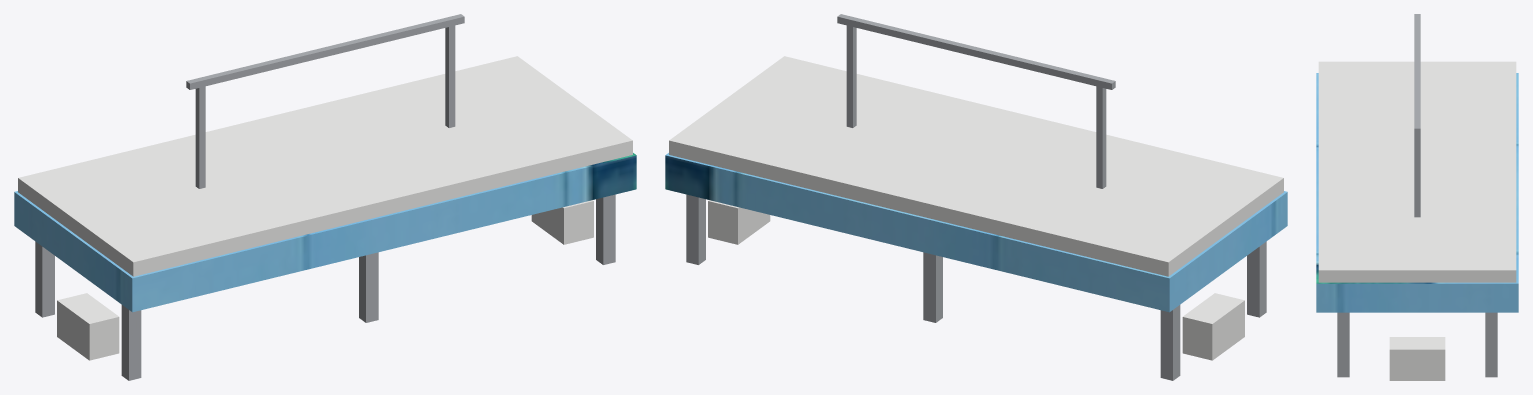
Rendered from toll_plaza.glb.
3 renders of one model, left to right at view 1: azimuth 30°, elevation 25°; view 2: azimuth 150°, elevation 25°; view 3: azimuth 270°, elevation 25°, orthographic. The views are drawn at different scales.
Visible parts, largest first — view 1: roof, fascia, booth-19, gbar, booth19, col_-19_-6, col_-19_6, col_0_-6, col_19_-6, gpost10, gpost-10; view 2: roof, fascia, booth-19, gbar, booth19, col_-19_6, col_-19_-6, col_0_6, col_19_6, gpost10, gpost-10; view 3: roof, fascia, booth19, col_19_-6, col_19_6, gbar, gpost10.
Part boxes in pixels (box(x1,y1,x2,y2)): roof: box(18, 56, 632, 276); fascia: box(14, 153, 636, 312); booth-19: box(57, 293, 119, 360); gbar: box(186, 14, 464, 89); booth19: box(531, 200, 593, 244); col_-19_-6: box(121, 305, 141, 380); col_-19_6: box(35, 241, 54, 317); col_0_-6: box(359, 252, 378, 322); col_19_-6: box(596, 194, 615, 264); gpost10: box(445, 22, 455, 127); gpost-10: box(195, 83, 205, 188); roof: box(669, 56, 1283, 276); fascia: box(665, 153, 1287, 312); booth-19: box(1182, 293, 1244, 360); gbar: box(837, 14, 1115, 89); booth19: box(708, 200, 770, 244); col_-19_6: box(1160, 305, 1180, 380); col_-19_-6: box(1247, 241, 1266, 317); col_0_6: box(923, 252, 942, 322); col_19_6: box(686, 194, 705, 264); gpost10: box(846, 22, 856, 127); gpost-10: box(1096, 83, 1106, 188); roof: box(1318, 61, 1516, 282); fascia: box(1316, 73, 1518, 312); booth19: box(1389, 337, 1445, 380); col_19_-6: box(1337, 312, 1349, 377); col_19_6: box(1485, 312, 1497, 377); gbar: box(1414, 14, 1420, 134); gpost10: box(1414, 134, 1420, 217).
Size of the model in its own units: 40.4 by 18.25 by 16.4.
Materials: 4 (1 with a texture image).
